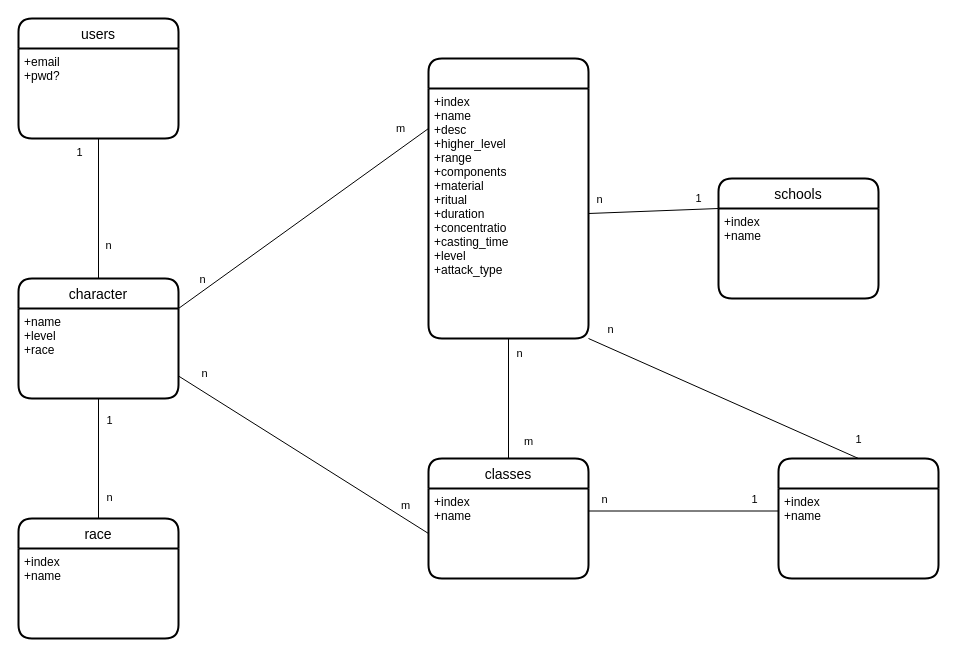
The diagram is 956 pixels wide and 656 high, and some of its shapes have lost their labels. Here are the shapes that lost their labels. From the top down, the box of each, then its label:
(427, 57, 589, 339): spells
(777, 457, 939, 579): sources
